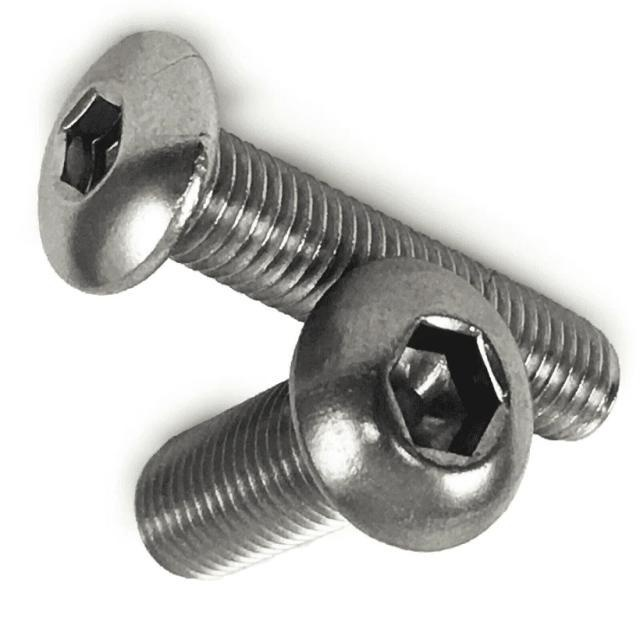allen: (384, 317, 505, 464), (56, 84, 127, 197)
